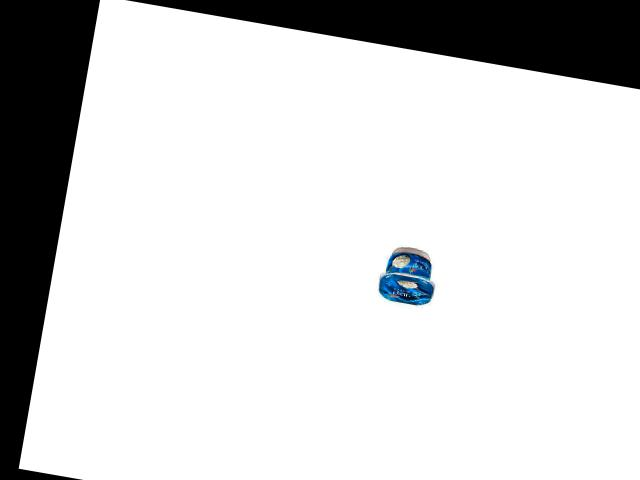cotage: (372, 243, 443, 310)
